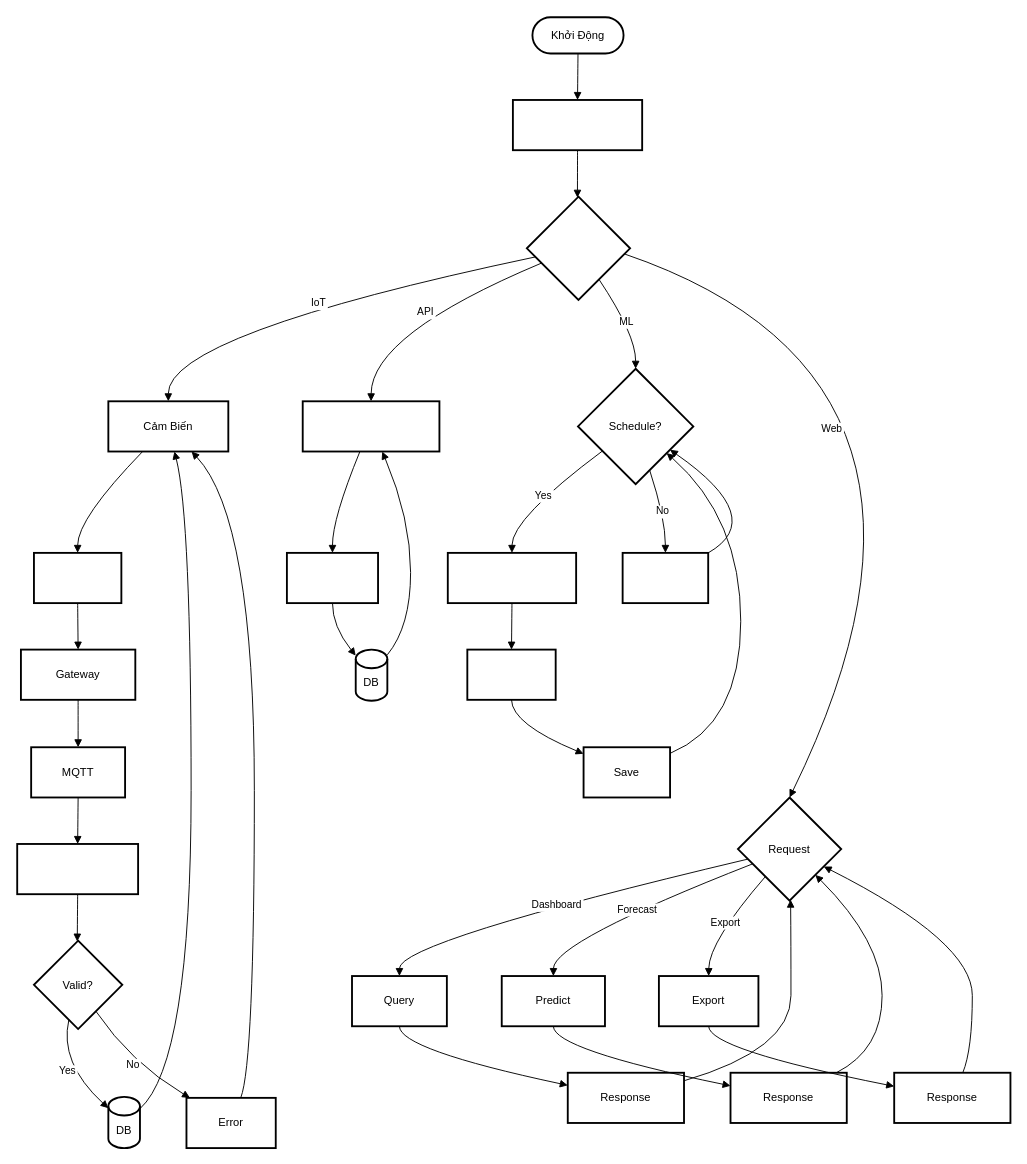
This 1027x1164 diagram has some shape labels left out. The centre of each missing label's shape, as x and y in pixels:
"4 Luồng" belongs at [578,247].
"Fetch Data" belongs at [511,577].
"Init System" belongs at [577,125].
"LoRa" belongs at [77,577].
"Node-RED" belongs at [77,869].
"Parse" belongs at [332,577].
"Train" belongs at [511,674].
"Wait" belongs at [665,577].
"Weather API" belongs at [370,426].
